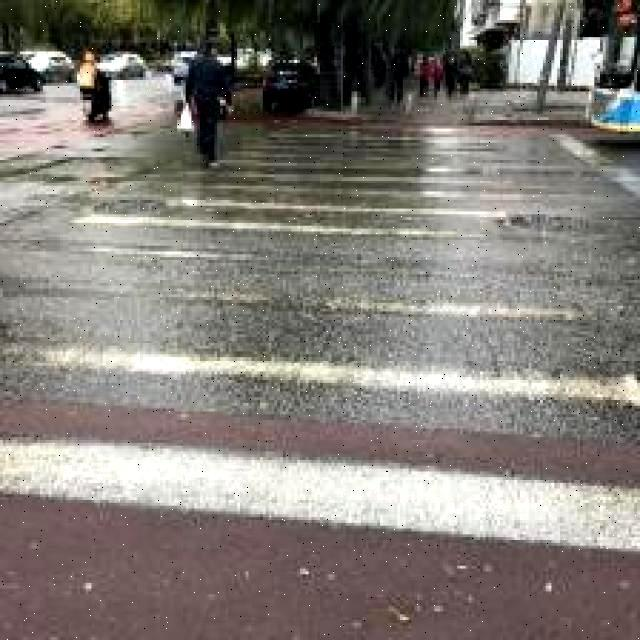crosswalk: (0, 98, 639, 639)
